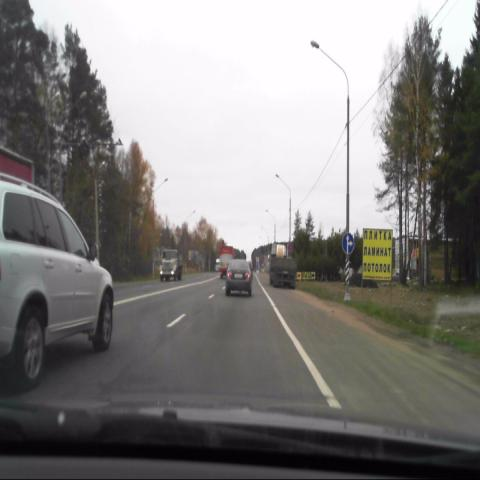4_1_4: (342, 230, 354, 255)
